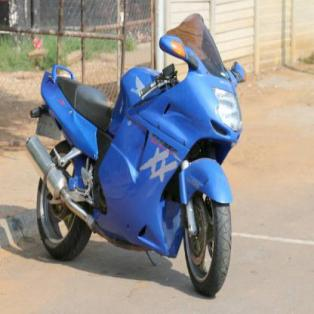Motocicleta: (20, 9, 250, 297)
